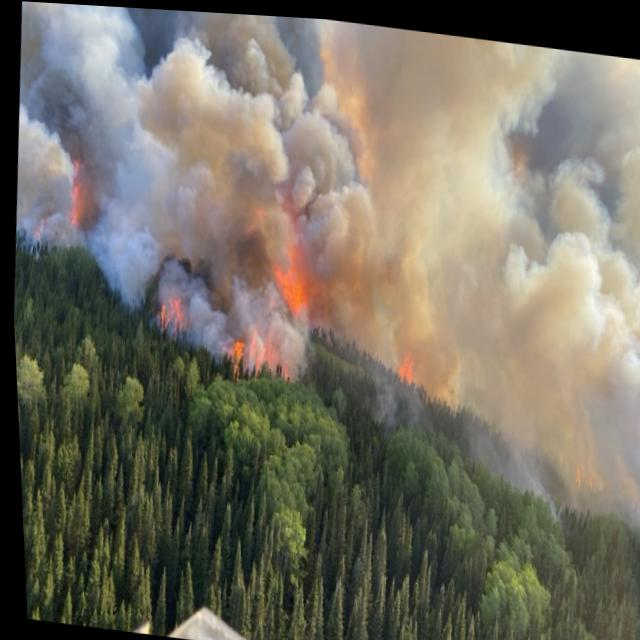Fire: (131, 282, 302, 399), (9, 149, 92, 255), (268, 265, 320, 331), (386, 340, 415, 386)
